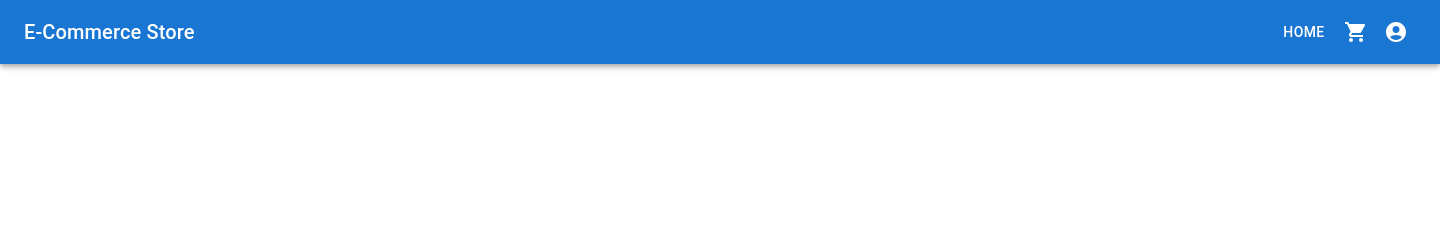
Scenario: Header Component › opens user menu when account icon is clicked
The width and height of the screenshot is (1440, 243).
// Click on user account icon
Click the button named "account of current user": (1396, 32) [1376, 12, 1416, 52]
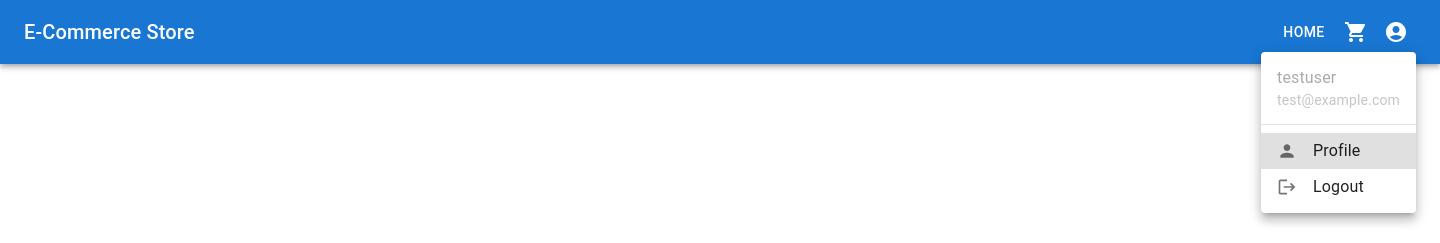
Now the text "Profile" is shown, box [1313, 141, 1360, 160]
